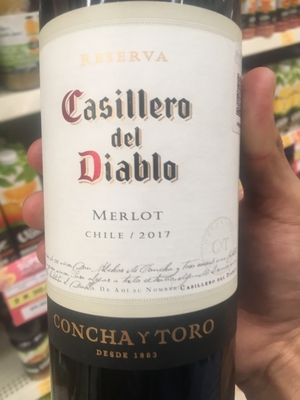casillero del diablo merlot: (36, 6, 250, 391)
